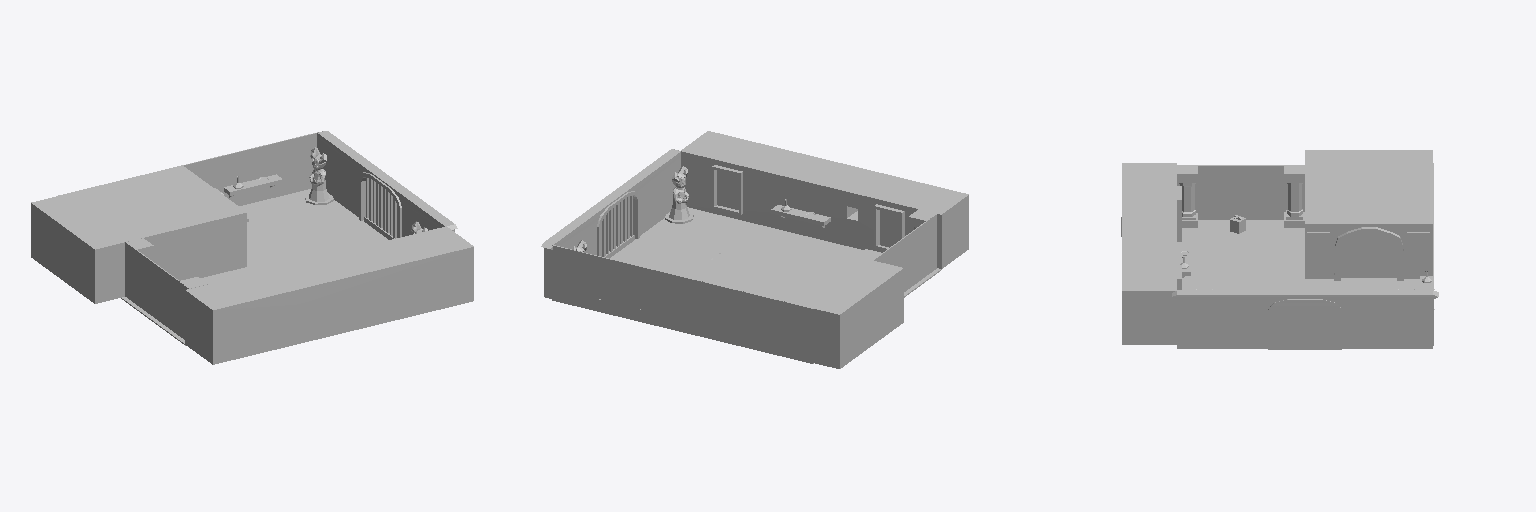
The model's file is mt5_level - backup.obj.
3 views of the same model, side by side, from view 1: azimuth 30°, elevation 25°; view 2: azimuth 150°, elevation 25°; view 3: azimuth 270°, elevation 25° (orthographic).
Visible parts, largest first — view 1: Cube.024, Cube.023, Cube.022, Cube.026, Cube.027, Cube.025, Cube.039, Cube.037, Cube.069; view 2: Cube.024, Cube.023, Cube.026, Cube.022, Cube.027, Cube.025, Cube.043, Cube.039, Cube.072, Cube.038, Cube.041; view 3: Cube.027, Cube.023, Cube.024, Cube.022, Cube.025, Plane, Cube.033, Cube.032.
Boxes of the visible parts, x1=… form: Cube.024: x1=185, y1=226, x2=473, y2=364; Cube.023: x1=31, y1=166, x2=248, y2=303; Cube.022: x1=121, y1=189, x2=387, y2=345; Cube.026: x1=58, y1=132, x2=317, y2=205; Cube.027: x1=317, y1=131, x2=457, y2=237; Cube.025: x1=125, y1=242, x2=188, y2=339; Cube.039: x1=366, y1=177, x2=397, y2=238; Cube.037: x1=305, y1=147, x2=333, y2=204; Cube.069: x1=224, y1=174, x2=282, y2=197; Cube.024: x1=681, y1=131, x2=968, y2=268; Cube.023: x1=688, y1=231, x2=903, y2=368; Cube.026: x1=552, y1=245, x2=812, y2=362; Cube.022: x1=552, y1=207, x2=941, y2=363; Cube.027: x1=541, y1=149, x2=680, y2=298; Cube.025: x1=873, y1=214, x2=936, y2=291; Cube.043: x1=712, y1=165, x2=742, y2=215; Cube.039: x1=601, y1=196, x2=632, y2=256; Cube.072: x1=874, y1=204, x2=904, y2=250; Cube.038: x1=665, y1=166, x2=693, y2=223; Cube.041: x1=771, y1=199, x2=830, y2=227; Cube.027: x1=1172, y1=290, x2=1438, y2=349; Cube.023: x1=1305, y1=150, x2=1432, y2=280; Cube.024: x1=1121, y1=163, x2=1176, y2=344; Cube.022: x1=1177, y1=220, x2=1433, y2=345; Cube.025: x1=1176, y1=165, x2=1304, y2=219; Plane: x1=1341, y1=233, x2=1396, y2=277; Cube.033: x1=1284, y1=166, x2=1304, y2=227; Cube.032: x1=1177, y1=165, x2=1197, y2=227.
Size of the model in its own units: 16.42 by 3.55 by 15.18.